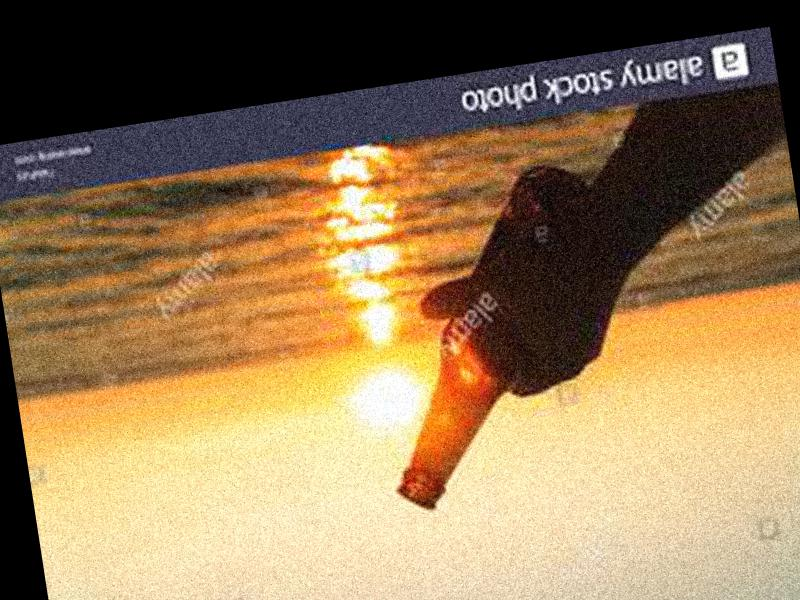Beer: (353, 157, 641, 518)
